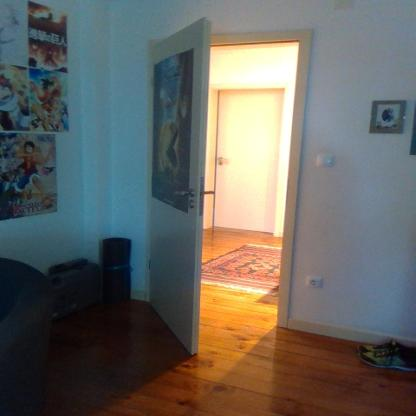semi: (109, 6, 315, 381)
